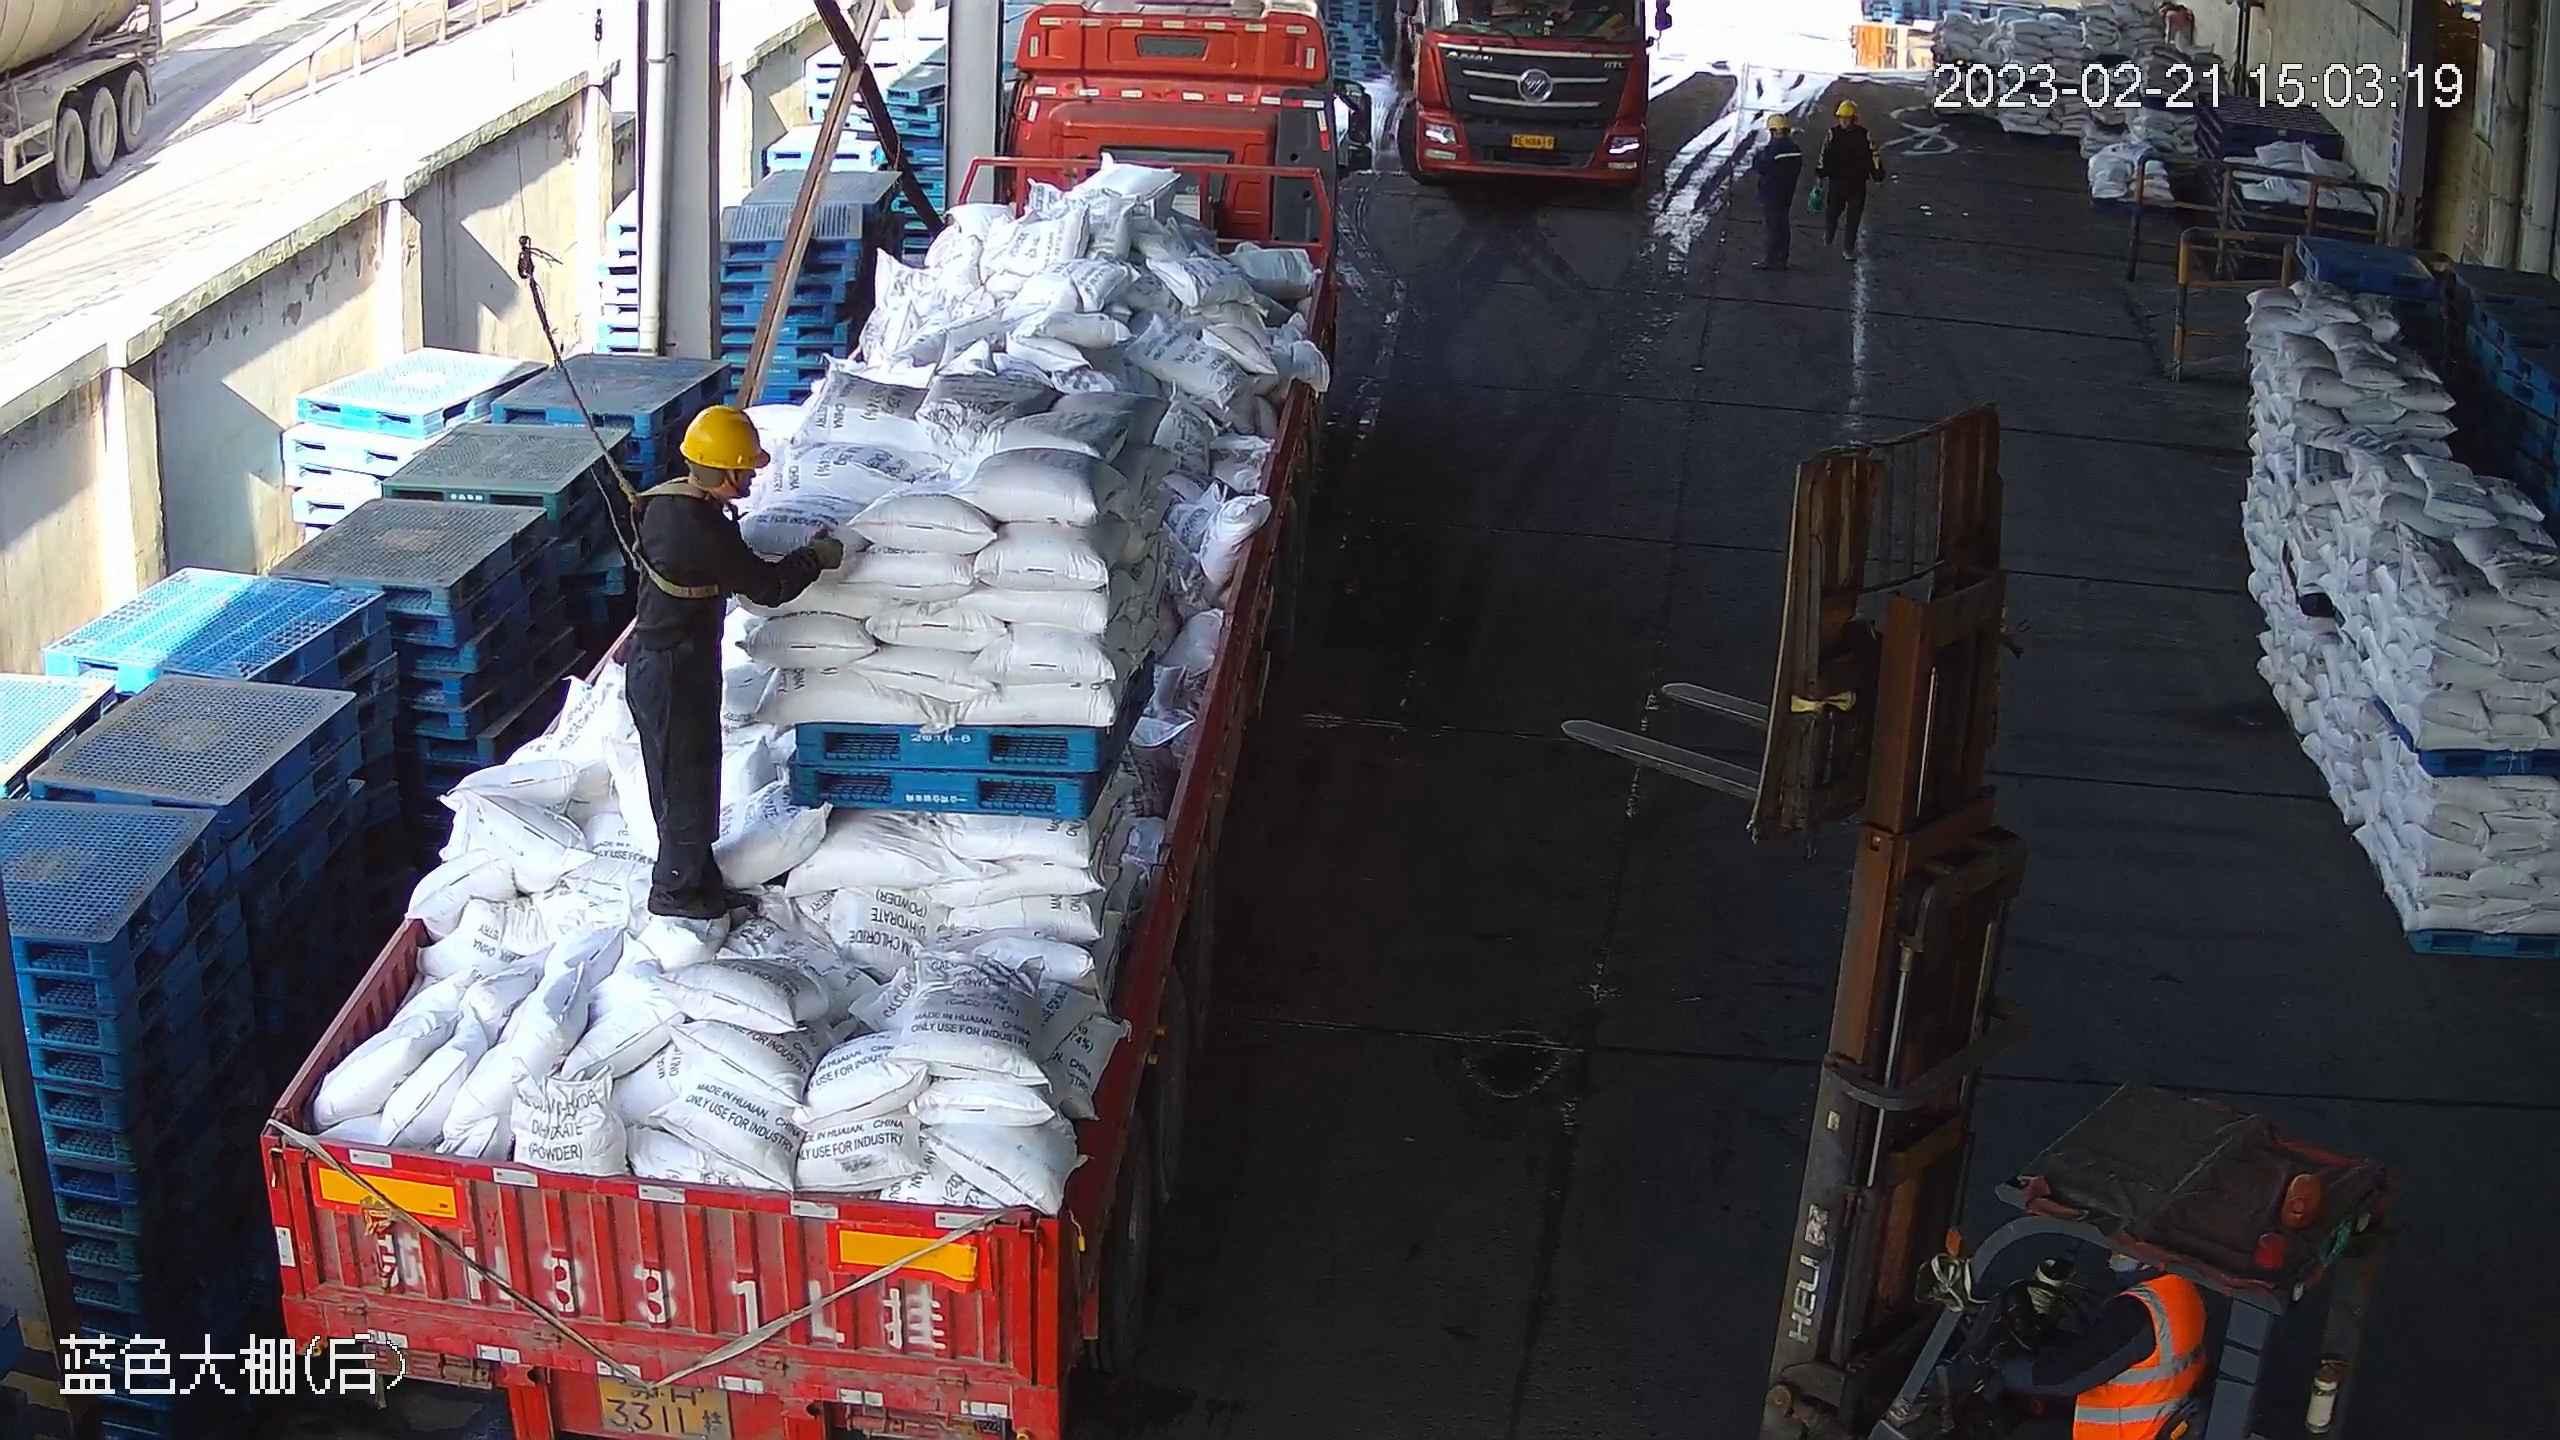belt: (620, 474, 736, 599)
head: (634, 404, 771, 548), (2081, 1249, 2205, 1336), (1754, 111, 1805, 160), (1822, 95, 1873, 142)
helmet: (680, 402, 773, 471), (1835, 99, 1861, 119), (1766, 114, 1792, 130)
people: (624, 402, 843, 921), (1992, 1241, 2212, 1440), (1808, 97, 1883, 264), (1751, 111, 1803, 273)
truck: (241, 1, 1349, 1439), (1385, 1, 1683, 210)
